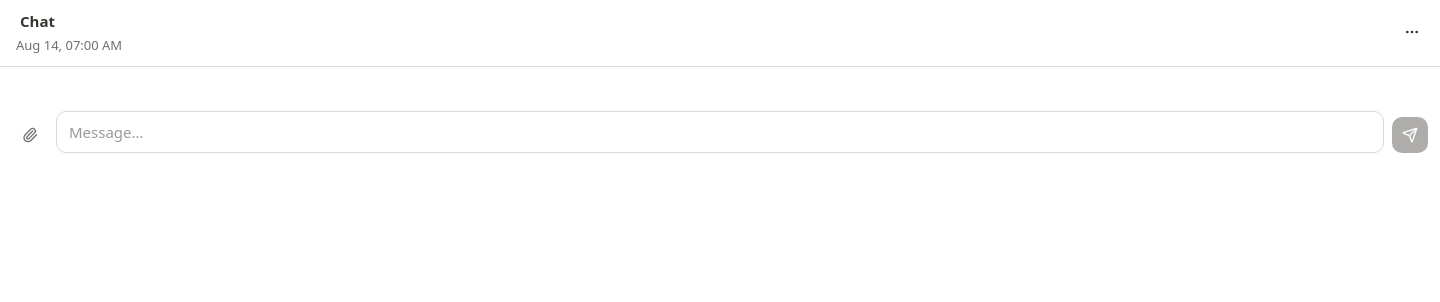
Scenario: a completed chat turn invalidates the knowledge base queries
Type "rewrite the intro" into the text box with placeholder "Message…" at (720, 132), box [56,110,1384,152]
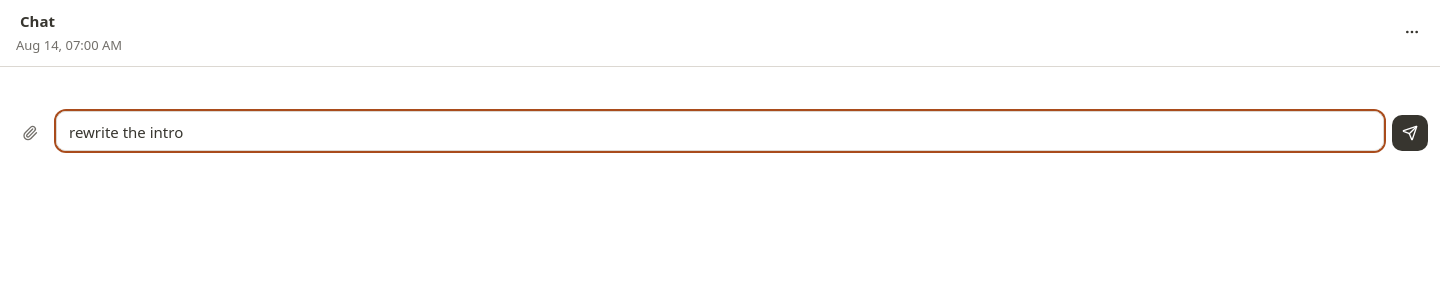
Press Enter in the text box with placeholder "Message…", box [56,110,1384,150]
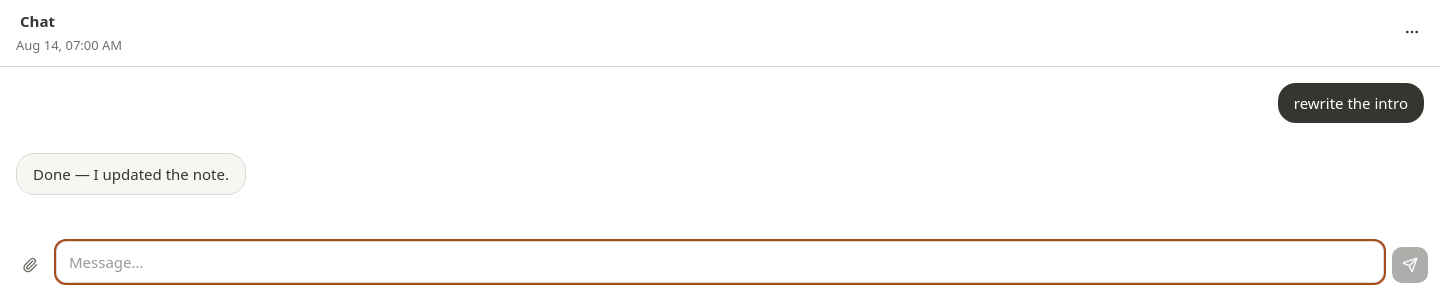
Now the text "Done — I updated the note." is shown, box [33,162,229,186]
